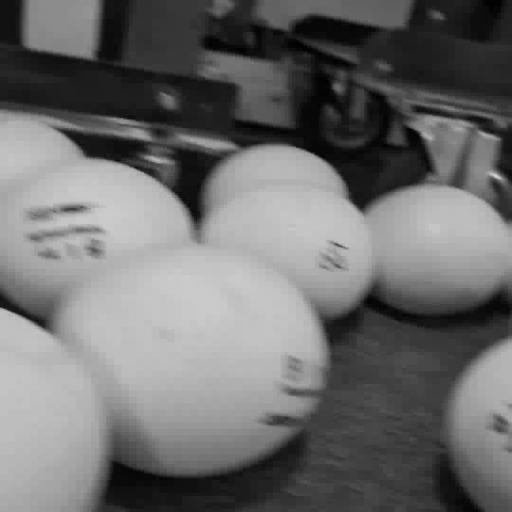fuel: (49, 244, 329, 477), (0, 158, 194, 319), (200, 188, 374, 319), (0, 308, 110, 511), (365, 184, 509, 315), (445, 337, 511, 511), (201, 144, 348, 213), (0, 112, 85, 188)
